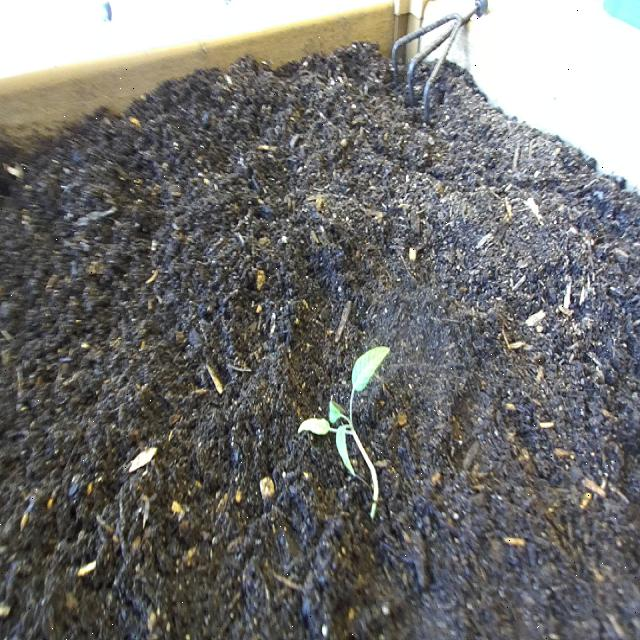Healthy: (291, 333, 404, 529)
